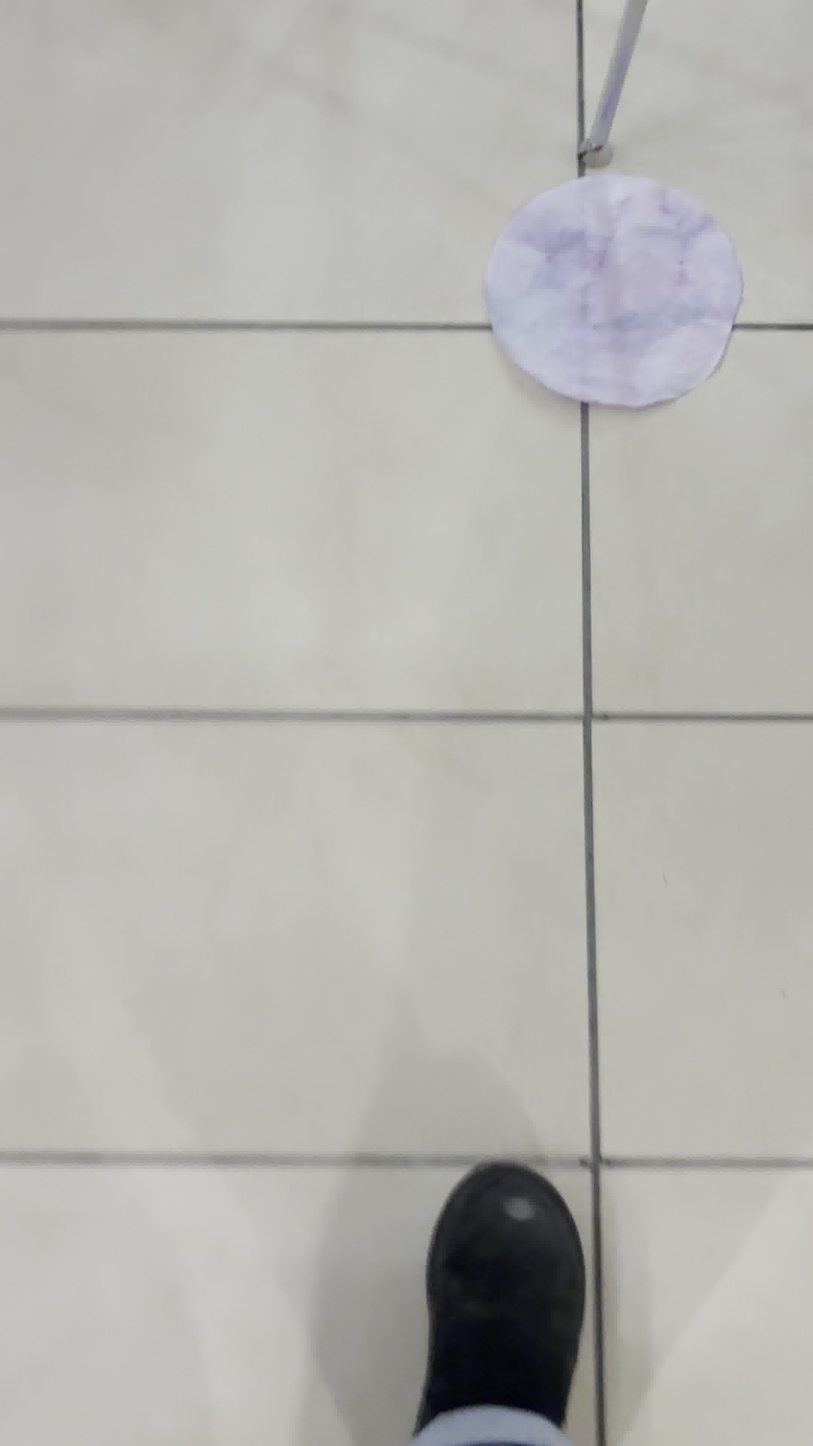Target: (473, 183, 740, 409)
